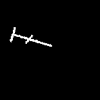double_crochet: (10, 27, 51, 45)
